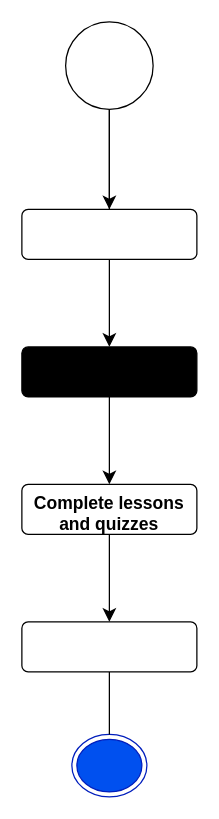
This 219x819 diagram has some shape labels left out. The shapes that lost their labels are listed below. From the top down, each one's centre as x and y in pixels, then its label:
the point at 109,233: Browse available courses
the point at 109,646: Earn certificate
